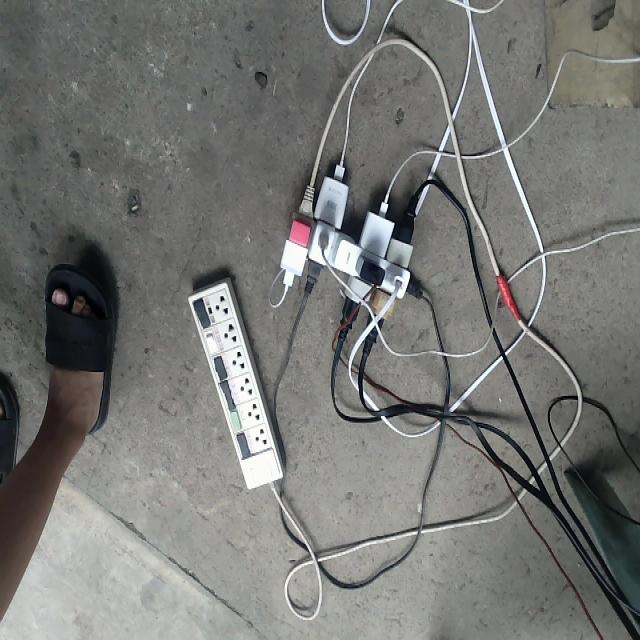-: (278, 159, 427, 356)
